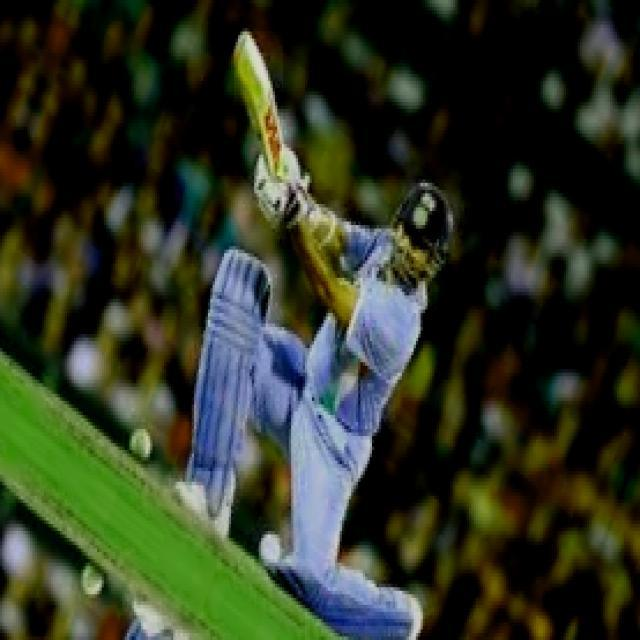bat: (195, 25, 286, 170)
toe: (231, 26, 250, 68)
